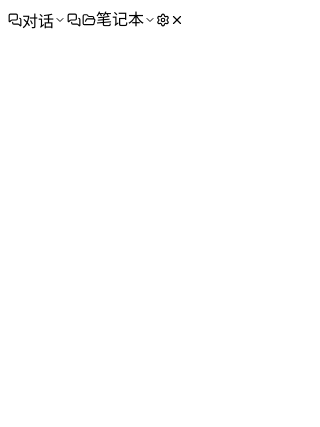
Scenario: floating bar conversation › clears the failed-round error when the chat conversation is cleared
Click the button named "打开对话" at {"x": 74, "y": 20}, box [67,13,81,27]
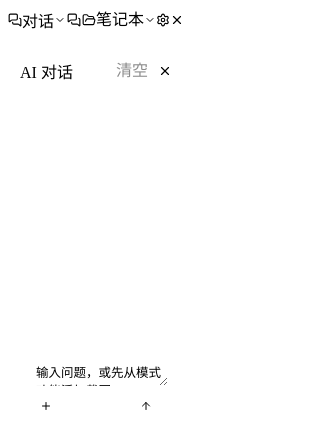
Type "这轮会失败" into the text box named "补充问题" at {"x": 100, "y": 375}, box [32,364,168,386]
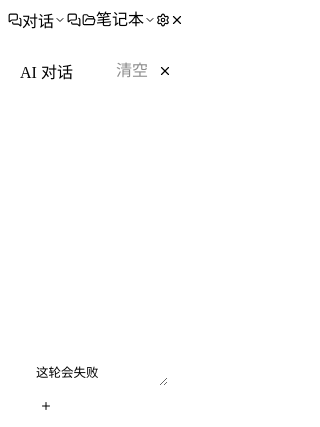
Press Enter in the text box named "补充问题", box [32,364,168,386]
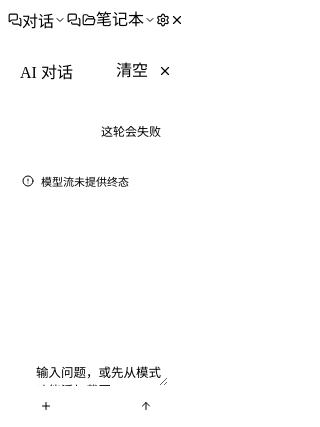
Check: the message reads "模型流未提供终态", box [41,176,129,188]
Check: the button with aria-label "清空对话历史" is enabled
Click the button with aria-label "清空对话历史" at {"x": 132, "y": 71}, box [116,63,148,79]
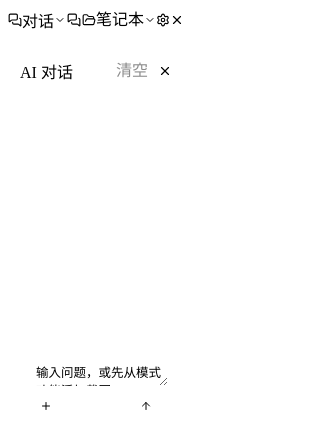
Check: the text "模型流未提供终态" is gone
